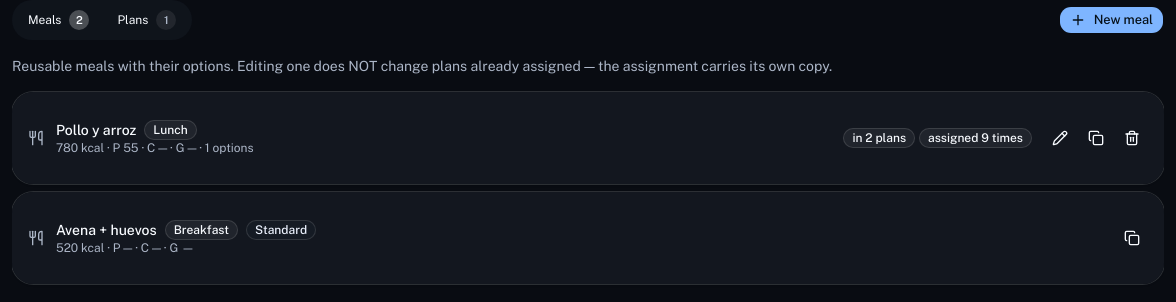
Scenario: the template list › counts how many plans came from each template
Check: the element with test id "nutrition-meal-row-meal-own" is shown, box [12,92,1164,184]
What coordinates should you click on to do the following:
click the button "Plans 1"
I would click on:
 (147, 20)
Its box is [105,4,188,36].
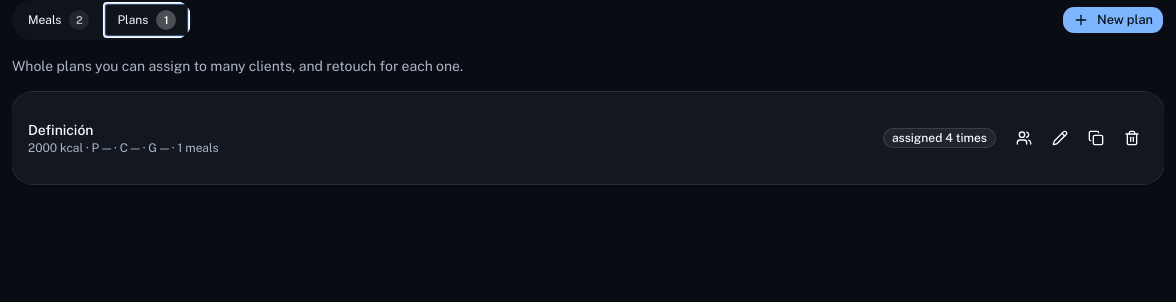
Check: the text "assigned 4 times" is shown, box [883,128,996,148]
